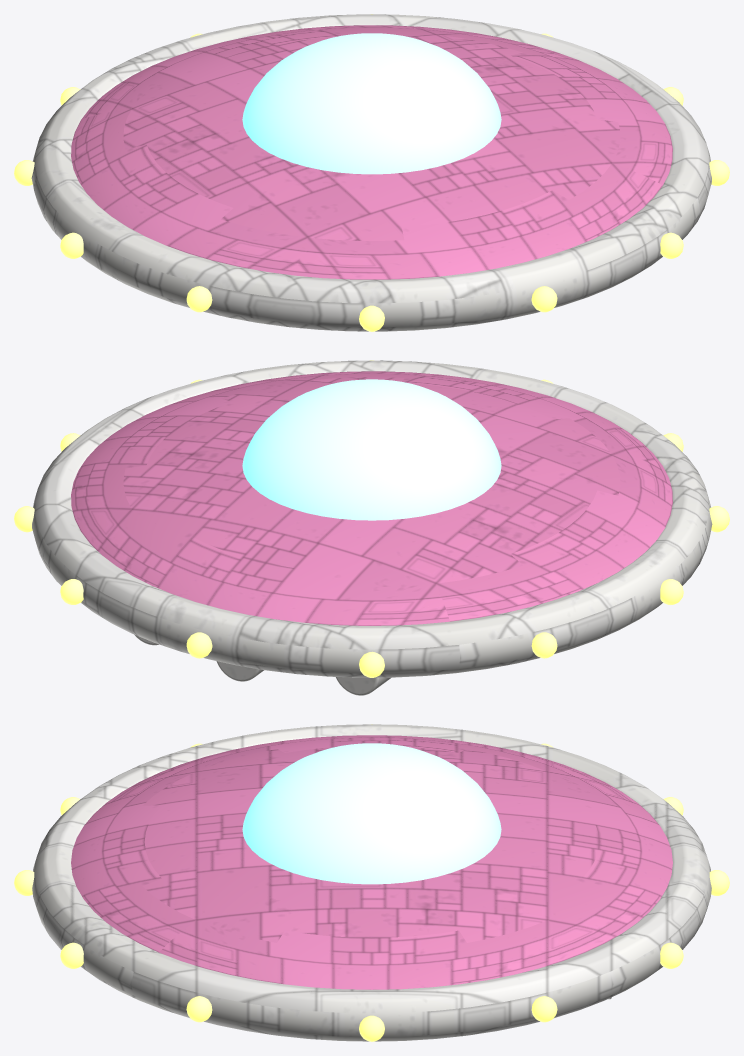
Rendered from alien_saucer.glb.
3 renders of one model, top to bottom at view 1: azimuth 30°, elevation 25°; view 2: azimuth 150°, elevation 25°; view 3: azimuth 270°, elevation 25°, orthographic.
Visible parts, largest first — view 1: Disk, Rim, Dome, Rim9, Rim8, Rim7, Rim6, Rim10; view 2: Disk, Rim, Dome, Thruster2, Rim3, Rim5, Rim4, Thruster1; view 3: Disk, Rim, Dome, Rim0, Rim1, Rim11, Rim2, Rim10.
Boxes of the visible parts, <box> form: Disk: <box>71,25,672,279</box>; Rim: <box>31,14,711,331</box>; Dome: <box>242,33,501,174</box>; Rim9: <box>531,286,557,312</box>; Rim8: <box>359,305,384,331</box>; Rim7: <box>186,286,212,312</box>; Rim6: <box>60,232,83,258</box>; Rim10: <box>660,232,683,258</box>; Disk: <box>71,371,672,625</box>; Rim: <box>32,360,712,677</box>; Dome: <box>242,379,501,520</box>; Thruster2: <box>335,677,391,695</box>; Rim3: <box>186,632,212,658</box>; Rim5: <box>531,632,557,658</box>; Rim4: <box>359,651,384,677</box>; Thruster1: <box>216,661,264,681</box>; Disk: <box>71,735,672,989</box>; Rim: <box>32,724,711,1041</box>; Dome: <box>242,743,501,884</box>; Rim0: <box>359,1015,384,1041</box>; Rim1: <box>531,996,557,1022</box>; Rim11: <box>186,996,212,1022</box>; Rim2: <box>660,942,683,968</box>; Rim10: <box>60,942,83,968</box>.
Size of the model in its own units: 0.49 by 0.161 by 0.49.
Materials: 7 (4 with a texture image).
